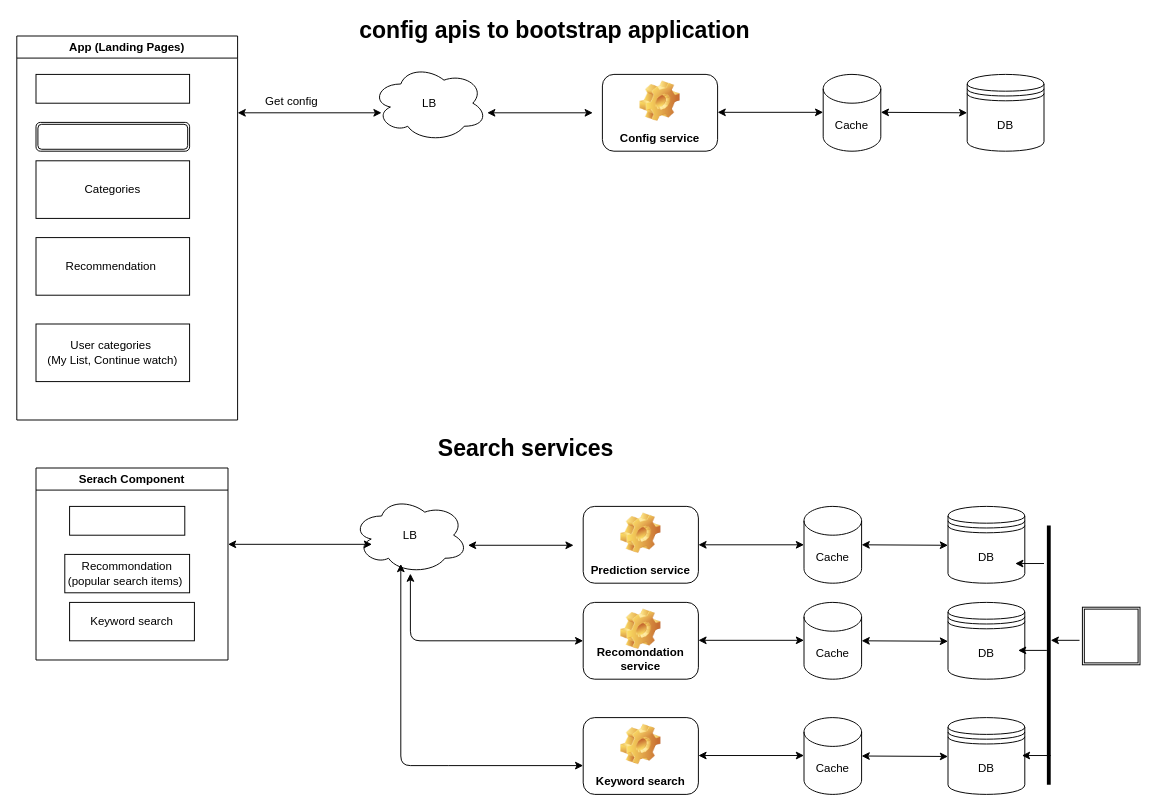
Some shapes in this 1157 by 811 pixel diagram are drawn without their labels. The shapes that lost their labels are listed below. From the top down, each one's centre as x and y in pixels, then its label:
At (x=112, y=88): "Authentication Controls".
At (x=112, y=136): "Search".
At (x=127, y=520): "Predictive Search".
At (x=1110, y=635): "ML System".
